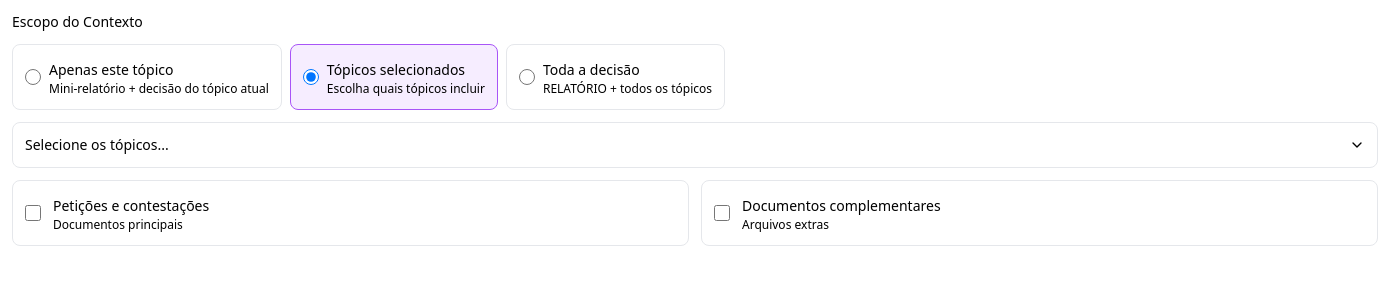
it: ContextScopeSelector › Empty State › should show empty message when no selectable topics exist
Click the button "Selecione os tópicos...": {"x": 97, "y": 144} [12, 122, 1378, 168]
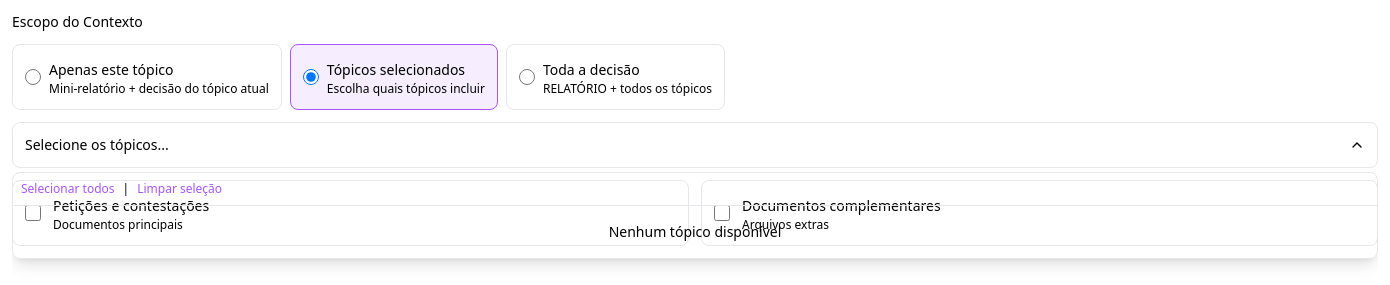
Check: the text "Nenhum tópico disponível" is shown, box [609, 222, 781, 241]
